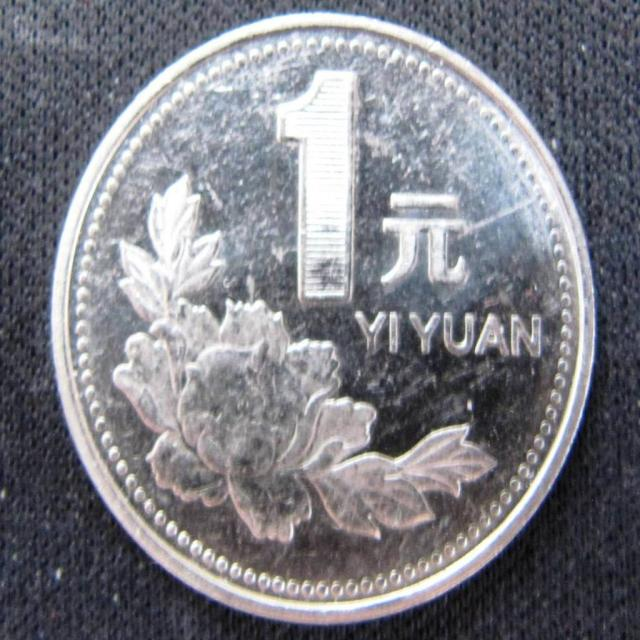Coin: (46, 10, 600, 628)
